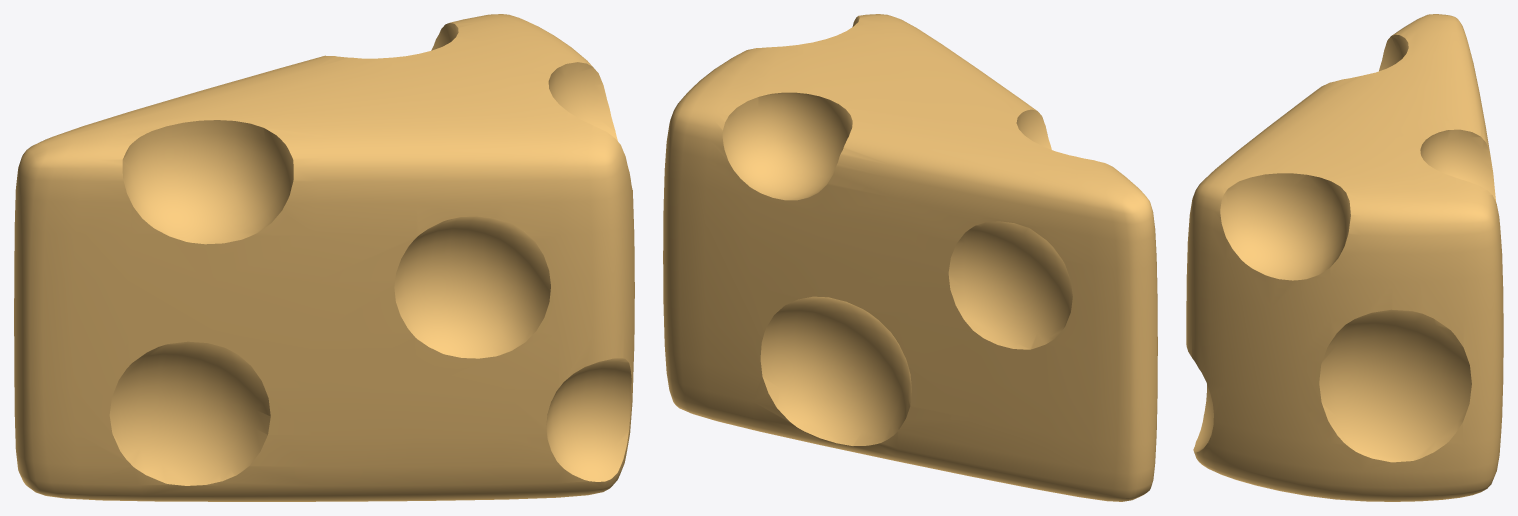
Rendered from Cheese.glb.
3 renders of one model, left to right at view 1: azimuth 30°, elevation 25°; view 2: azimuth 150°, elevation 25°; view 3: azimuth 270°, elevation 25°, orthographic. The views are drawn at different scales.
Parts seen in each view (by area): view 1: Cheese; view 2: Cheese; view 3: Cheese.
Part boxes in pixels (x1=…): Cheese: x1=14, y1=14, x2=634, y2=501; Cheese: x1=663, y1=14, x2=1157, y2=501; Cheese: x1=1186, y1=14, x2=1503, y2=501.
Bounding box in the file's own units: 0.1421 × 0.0946 × 0.0874.
